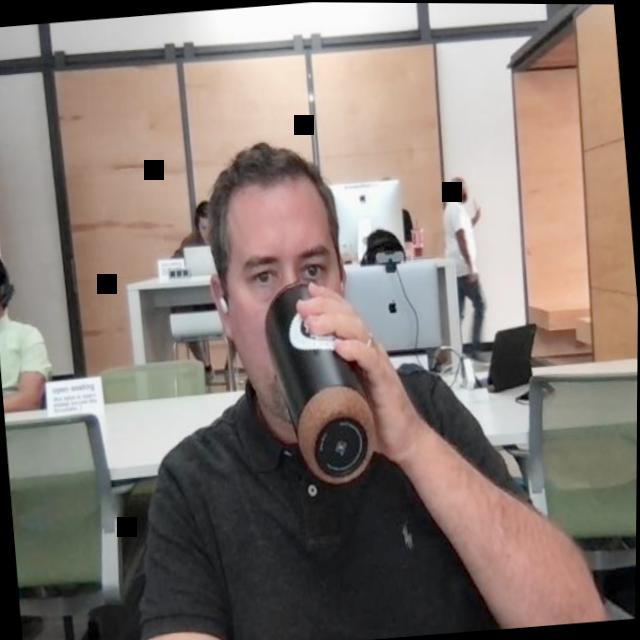Mask: (445, 175, 470, 208)
NO-Mask: (200, 136, 363, 432)
